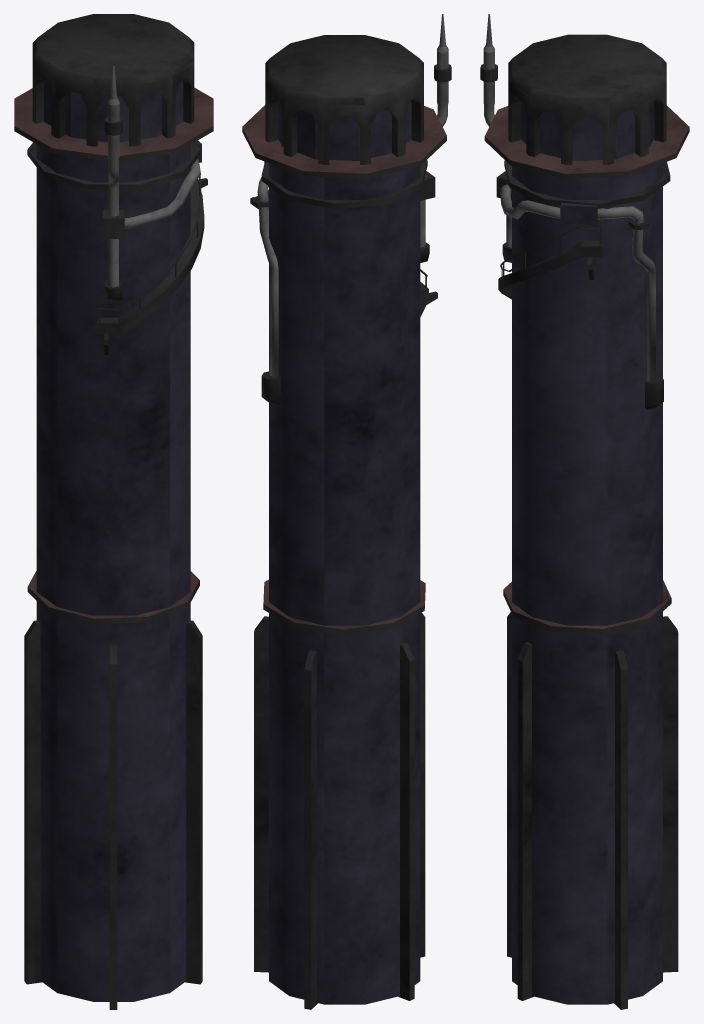
The model's file is ETC0710020.fbx.
The picture shows the model from 3 angles, left to right: view 1: azimuth 30°, elevation 25°; view 2: azimuth 150°, elevation 25°; view 3: azimuth 270°, elevation 25°; orthographic projection.
Visible parts, largest first — view 1: smETC0710020; view 2: smETC0710020; view 3: smETC0710020.
Part boxes in pixels (box(x1,y1,x2,y2)): smETC0710020: box(14, 14, 213, 1009); smETC0710020: box(242, 14, 451, 1009); smETC0710020: box(480, 14, 689, 1009).
Size of the model in its own units: 1702 by 8478 by 1717.
1 material, 1 textured.
